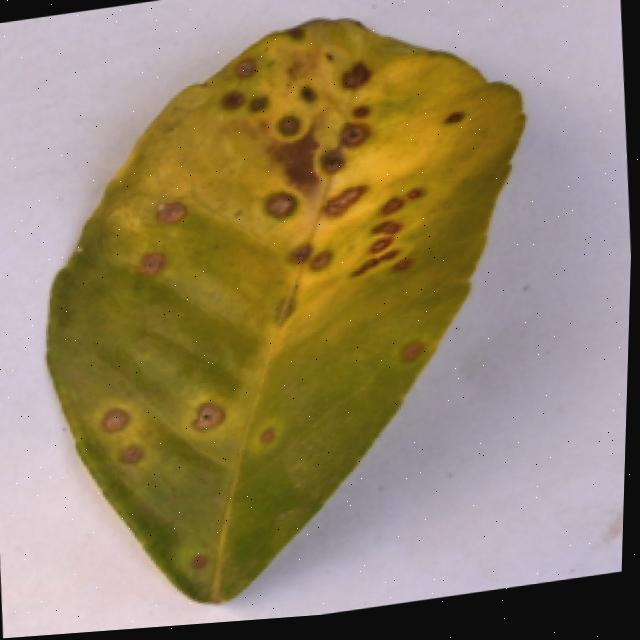canker: (52, 19, 525, 601), (197, 13, 427, 305), (121, 166, 202, 292), (83, 383, 163, 478), (181, 379, 249, 454), (179, 535, 219, 582), (397, 320, 430, 374), (246, 419, 293, 450)
